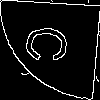C: (25, 24, 77, 65)
